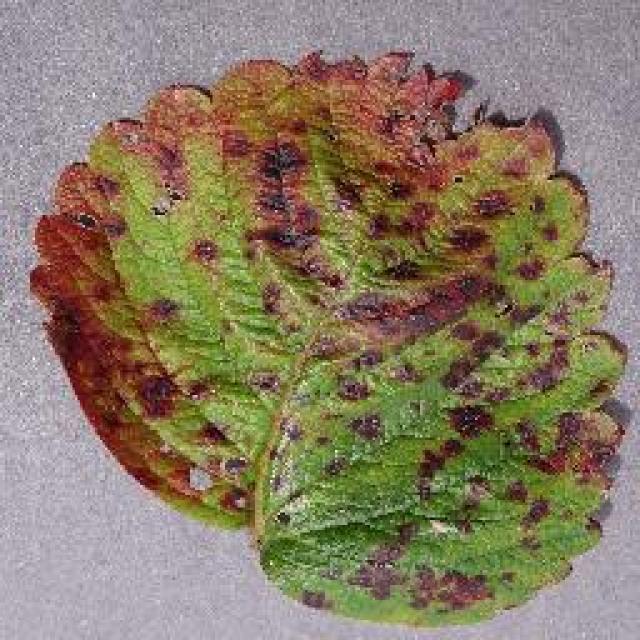Strawberry leaf scorch: (85, 154, 547, 478)
